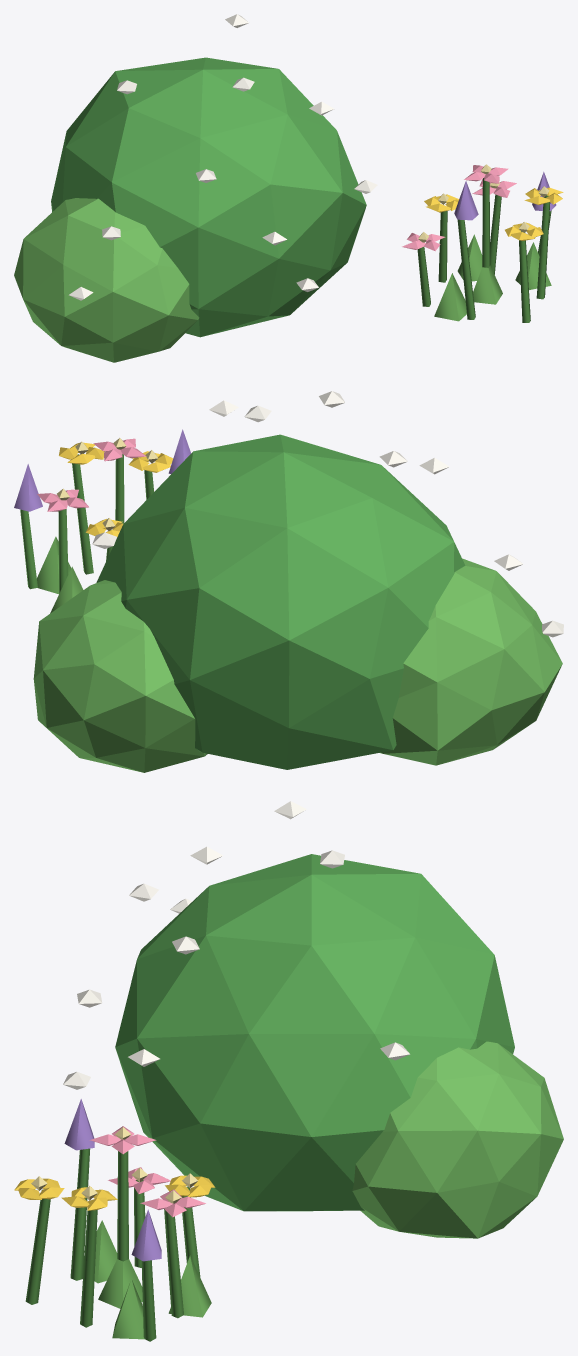
File: bush_wildflowers.glb
3 renders of one model, top to bottom at view 1: azimuth 30°, elevation 25°; view 2: azimuth 150°, elevation 25°; view 3: azimuth 270°, elevation 25°, orthographic. The views are drawn at different scales.
Parts seen in each view (by area): view 1: bush_main, bush_side_left, wildflower_leaves_2, wildflower_stem_2, wildflower_leaves_0, wildflower_stem_1, wildflower_stem_0, wildflower_stem_7, wildflower_stem_4, wildflower_leaves_1, wildflower_2, wildflower_stem_3 (+2 smaller); view 2: bush_main, bush_side_left, bush_side_back, wildflower_stem_1, wildflower_leaves_1, wildflower_stem_5, wildflower_5, wildflower_stem_3, wildflower_stem_0, wildflower_leaves_3; view 3: bush_main, bush_side_back, wildflower_stem_1, wildflower_stem_2, wildflower_stem_7, wildflower_stem_0, wildflower_stem_3, wildflower_leaves_1, wildflower_leaves_0, wildflower_leaves_3, wildflower_leaves_2, wildflower_stem_5 (+3 smaller).
Part boxes in pixels (x1,y1,x2,y2): bush_main: [51, 57, 366, 337]; bush_side_left: [14, 198, 199, 362]; wildflower_leaves_2: [434, 273, 466, 321]; wildflower_stem_2: [457, 219, 475, 319]; wildflower_leaves_0: [473, 265, 502, 304]; wildflower_stem_1: [536, 195, 550, 299]; wildflower_stem_0: [482, 178, 490, 267]; wildflower_stem_7: [519, 231, 530, 322]; wildflower_stem_4: [438, 211, 447, 282]; wildflower_leaves_1: [515, 242, 551, 289]; wildflower_2: [454, 181, 478, 220]; wildflower_stem_3: [490, 194, 501, 274]; bush_main: [96, 434, 465, 769]; bush_side_left: [380, 558, 562, 765]; bush_side_back: [33, 580, 207, 772]; wildflower_stem_1: [72, 454, 93, 574]; wildflower_leaves_1: [37, 536, 71, 594]; wildflower_stem_5: [20, 509, 37, 589]; wildflower_5: [14, 464, 42, 511]; wildflower_stem_3: [58, 509, 68, 593]; wildflower_stem_0: [115, 454, 124, 523]; wildflower_leaves_3: [50, 566, 83, 613]; bush_main: [115, 854, 514, 1211]; bush_side_back: [352, 1041, 563, 1238]; wildflower_stem_1: [80, 1210, 97, 1327]; wildflower_stem_2: [70, 1148, 90, 1280]; wildflower_stem_7: [25, 1189, 50, 1304]; wildflower_stem_0: [117, 1151, 128, 1261]; wildflower_stem_3: [164, 1209, 183, 1318]; wildflower_leaves_1: [112, 1278, 144, 1339]; wildflower_leaves_0: [98, 1259, 142, 1308]; wildflower_leaves_3: [168, 1255, 211, 1317]; wildflower_leaves_2: [83, 1220, 117, 1283]; wildflower_stem_5: [141, 1260, 156, 1341].
Size of the model in its own units: 1.74 by 0.905 by 1.31.
